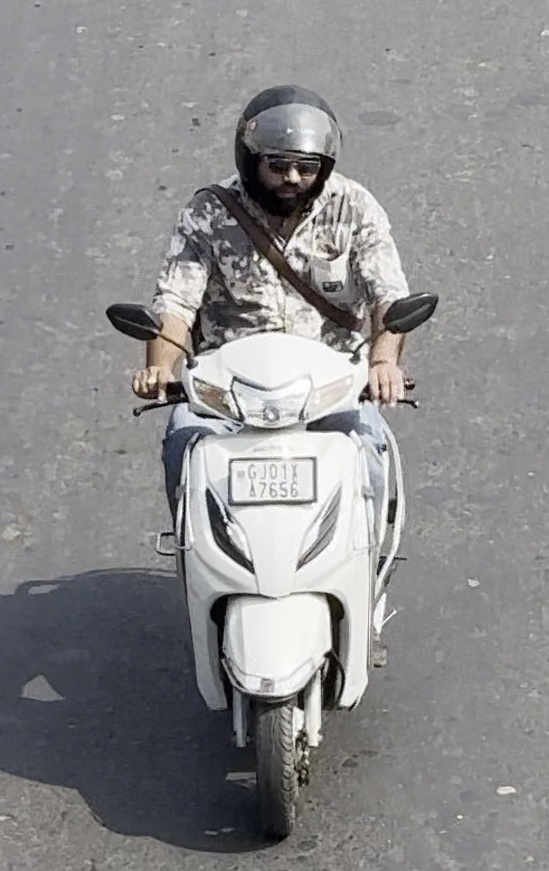BikeWithRider: (93, 73, 448, 849)
Helmet: (220, 75, 354, 218)
